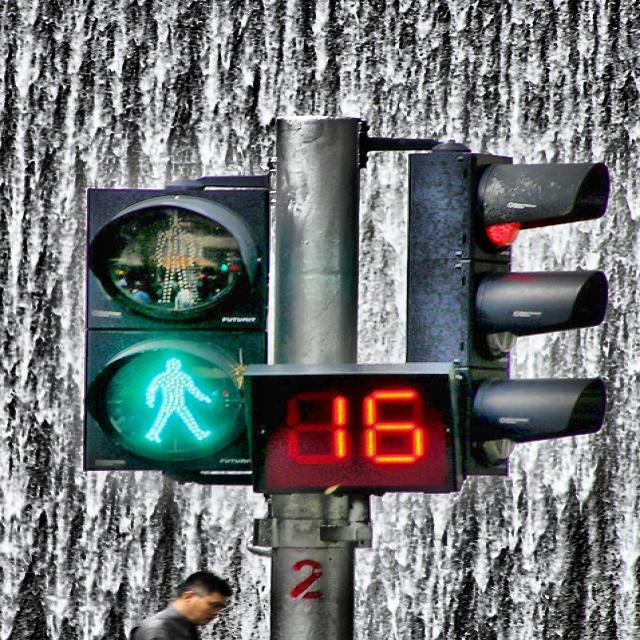green_light: (135, 349, 222, 446)
